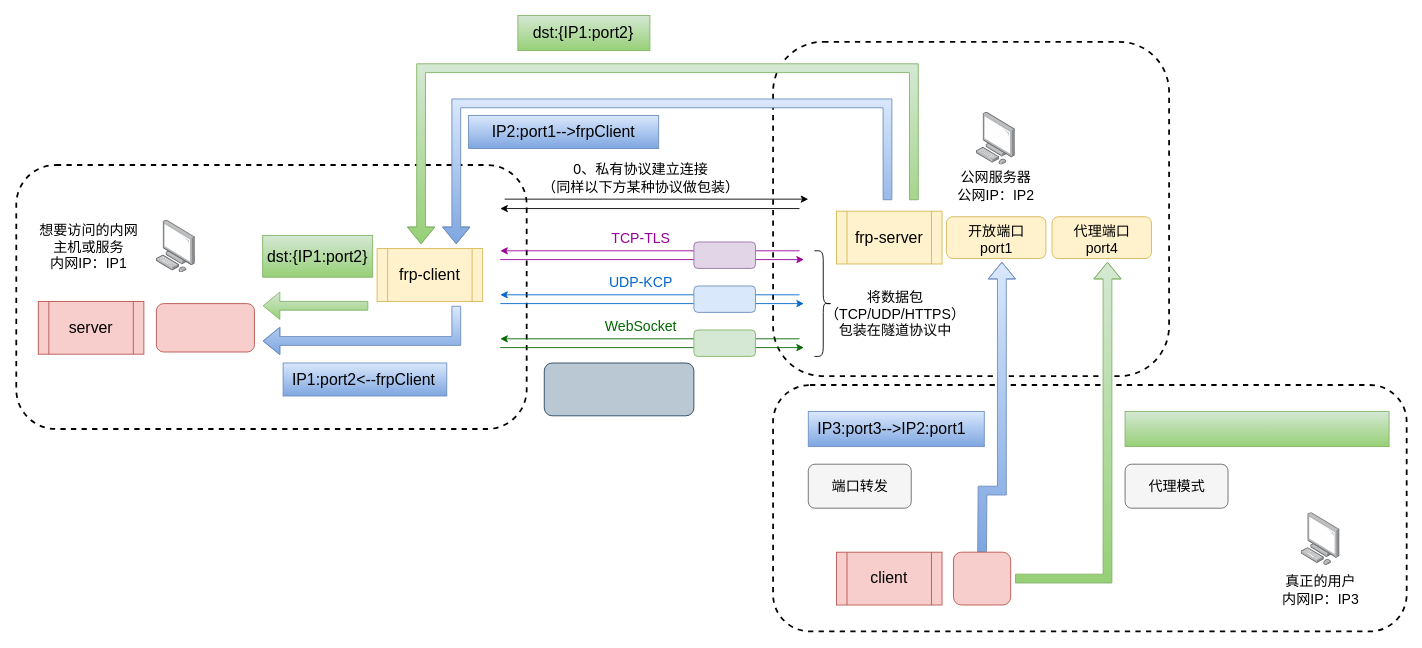
Image size: 1422x648. Some labels were removed from this diagram. The centre of each missing label's shape, as x and y in pixels:
"dst:{IP1:port2},socks5:{IP2:port4}" goes at [1256,429].
"port3" goes at [982,578].
"不同的隧道模式" goes at [618,389].
"开放端口port2" goes at [204,327].
